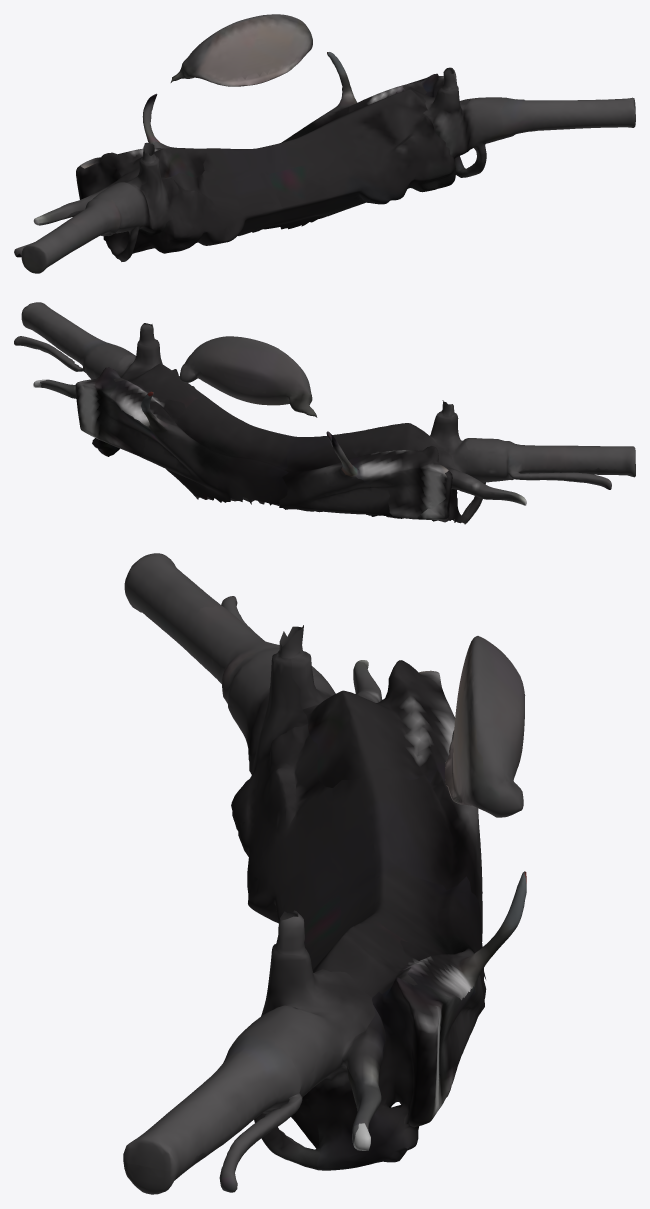
File: blt150_04.obj
3 renders of one model, top to bottom at view 1: azimuth 30°, elevation 25°; view 2: azimuth 150°, elevation 25°; view 3: azimuth 270°, elevation 25°, orthographic. The views are drawn at different scales.
Parts seen in each view (by area): view 1: blt150_main.003_tripo_node_36cdd4a4-d861-4834-acdf-ce8a7d82f620.; view 2: blt150_main.003_tripo_node_36cdd4a4-d861-4834-acdf-ce8a7d82f620.; view 3: blt150_main.003_tripo_node_36cdd4a4-d861-4834-acdf-ce8a7d82f620..
Part boxes in pixels (x1,y1,x2,y2): blt150_main.003_tripo_node_36cdd4a4-d861-4834-acdf-ce8a7d82f620.: (14, 14, 635, 273); blt150_main.003_tripo_node_36cdd4a4-d861-4834-acdf-ce8a7d82f620.: (14, 302, 635, 524); blt150_main.003_tripo_node_36cdd4a4-d861-4834-acdf-ce8a7d82f620.: (123, 553, 526, 1194).
Size of the model in its own units: 3.5 by 1.05 by 0.997.
1 material, 1 textured.
